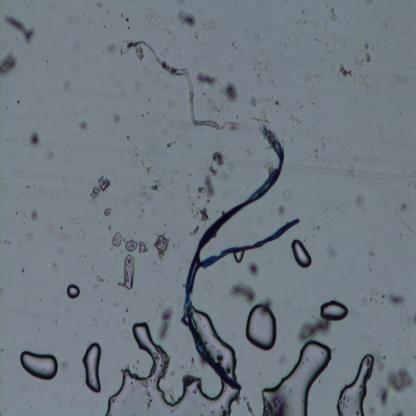Air bubble: (105, 318, 241, 416), (260, 340, 333, 414), (193, 309, 238, 375), (336, 353, 376, 415), (245, 303, 278, 352), (20, 350, 59, 381), (82, 339, 102, 395), (320, 298, 350, 324), (117, 254, 136, 290), (152, 231, 172, 263), (292, 238, 312, 269), (66, 282, 80, 298), (98, 175, 111, 191), (112, 231, 122, 248), (126, 238, 138, 252), (233, 251, 245, 265), (91, 186, 101, 201), (138, 241, 148, 253)
Background material: (2, 14, 36, 48), (227, 278, 258, 305), (386, 366, 415, 394), (298, 318, 330, 343), (249, 57, 275, 86), (156, 304, 173, 345), (195, 172, 216, 203), (47, 220, 75, 242), (0, 46, 19, 78), (187, 195, 209, 222), (342, 151, 361, 182), (203, 92, 222, 116), (221, 82, 242, 103), (176, 8, 197, 29), (195, 72, 218, 89), (141, 381, 154, 410), (387, 291, 406, 308), (137, 184, 153, 202), (375, 350, 386, 375), (211, 150, 226, 168), (166, 29, 177, 52), (324, 244, 340, 259), (145, 2, 155, 25), (100, 43, 116, 57), (354, 193, 367, 210), (29, 131, 41, 149), (338, 63, 352, 78), (140, 160, 154, 175), (232, 40, 244, 57), (368, 286, 378, 306), (243, 396, 254, 414), (397, 200, 408, 218), (43, 149, 56, 164), (281, 186, 294, 201), (165, 389, 177, 405), (135, 44, 145, 63), (401, 220, 415, 233), (288, 115, 300, 130), (380, 387, 390, 405), (207, 162, 218, 178), (166, 135, 179, 148), (153, 176, 164, 191), (358, 72, 369, 87), (250, 262, 260, 278), (367, 250, 374, 272), (322, 206, 341, 214), (328, 6, 338, 21), (202, 280, 214, 292), (200, 22, 216, 31), (58, 361, 70, 373), (166, 97, 176, 111), (188, 355, 195, 375), (353, 58, 365, 69), (249, 96, 261, 107), (112, 113, 122, 126), (76, 229, 86, 242), (300, 11, 309, 25), (141, 65, 151, 77), (30, 209, 39, 222), (86, 14, 94, 28), (272, 99, 282, 110), (78, 120, 89, 130), (189, 226, 200, 236), (320, 137, 327, 152), (284, 37, 293, 48), (277, 205, 286, 216), (132, 359, 140, 371), (25, 230, 33, 242), (313, 146, 319, 161), (364, 52, 371, 64), (395, 74, 403, 84), (2, 238, 12, 246), (52, 262, 60, 272), (352, 72, 357, 87), (258, 218, 266, 227), (325, 42, 331, 54), (90, 263, 96, 275), (350, 96, 358, 105), (382, 20, 389, 30), (395, 409, 405, 416), (177, 266, 184, 276), (192, 31, 200, 39), (104, 208, 112, 216), (96, 274, 104, 282), (265, 95, 273, 103), (381, 293, 386, 305), (299, 104, 305, 112), (246, 148, 252, 156), (169, 370, 177, 376), (112, 303, 120, 309), (319, 55, 325, 62), (121, 316, 126, 324), (96, 2, 102, 8), (0, 286, 4, 295), (310, 100, 316, 106), (124, 17, 130, 23), (296, 19, 301, 26), (314, 37, 320, 42), (400, 232, 403, 242), (0, 347, 5, 353), (134, 152, 140, 157), (108, 223, 112, 230), (364, 44, 369, 49), (127, 25, 131, 31), (235, 114, 239, 120), (141, 208, 145, 214), (314, 73, 318, 79), (105, 10, 109, 15), (304, 79, 308, 84), (120, 13, 124, 18), (324, 20, 328, 25), (317, 226, 321, 231), (125, 308, 129, 313), (21, 269, 25, 274), (324, 26, 328, 30), (148, 98, 152, 102), (26, 185, 30, 189), (126, 136, 129, 140), (146, 111, 149, 115), (163, 224, 167, 226), (142, 114, 144, 117)
Cellulose filter fibre: (126, 39, 226, 130)
Cotton: (182, 123, 302, 389)
